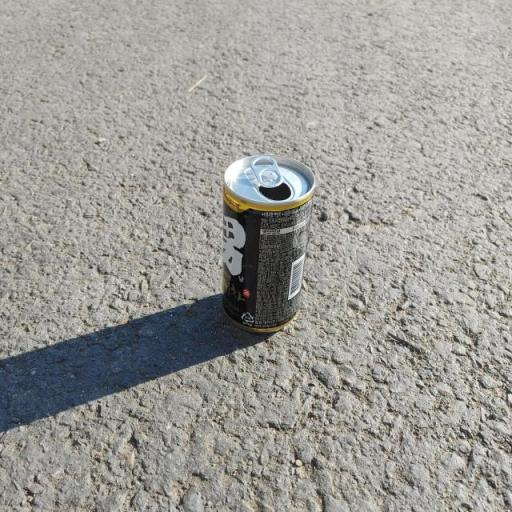metal: (172, 130, 374, 384)
